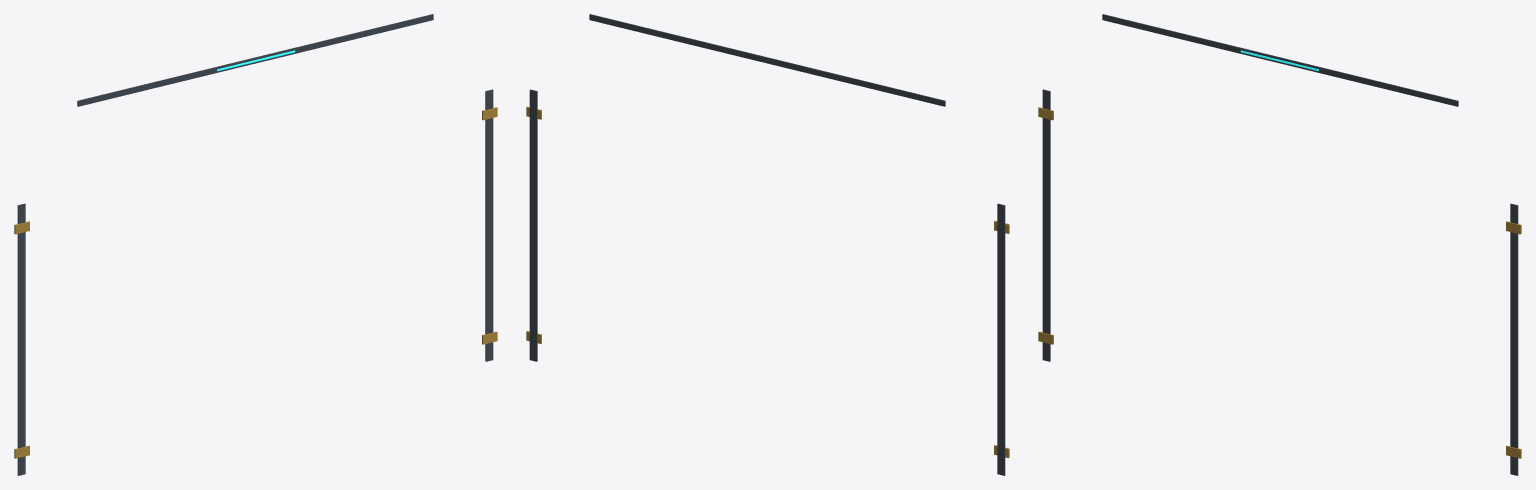
Rendered from blade-city-module-arche.glb.
3 renders of one model, left to right at view 1: azimuth 30°, elevation 25°; view 2: azimuth 150°, elevation 25°; view 3: azimuth 330°, elevation 25°, orthographic.
Visible parts, largest first — view 1: BC | linteau technique arche, BC | rail vertical arche, BC | rail vertical arche.001; view 2: BC | linteau technique arche, BC | rail vertical arche.001, BC | rail vertical arche; view 3: BC | linteau technique arche, BC | rail vertical arche.001, BC | rail vertical arche.
Boxes of the visible parts, x1,y1,x2,y2 form: BC | linteau technique arche: (77,14,433,106); BC | rail vertical arche: (17,203,25,475); BC | rail vertical arche.001: (485,89,493,361); BC | linteau technique arche: (589,14,945,106); BC | rail vertical arche.001: (529,89,537,361); BC | rail vertical arche: (997,203,1005,475); BC | linteau technique arche: (1102,14,1458,106); BC | rail vertical arche.001: (1510,203,1518,475); BC | rail vertical arche: (1042,89,1050,361).
Size of the model in its own units: 4.95 by 3.53 by 0.02.
